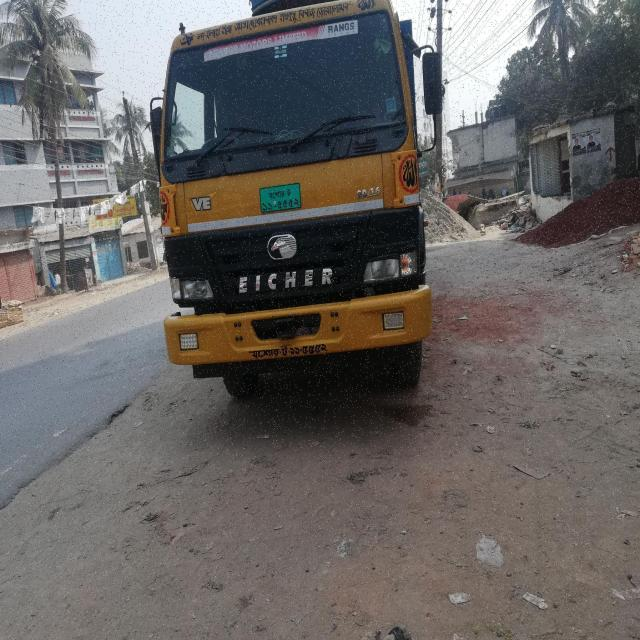numberplate: (234, 336, 334, 365), (258, 181, 302, 213)
